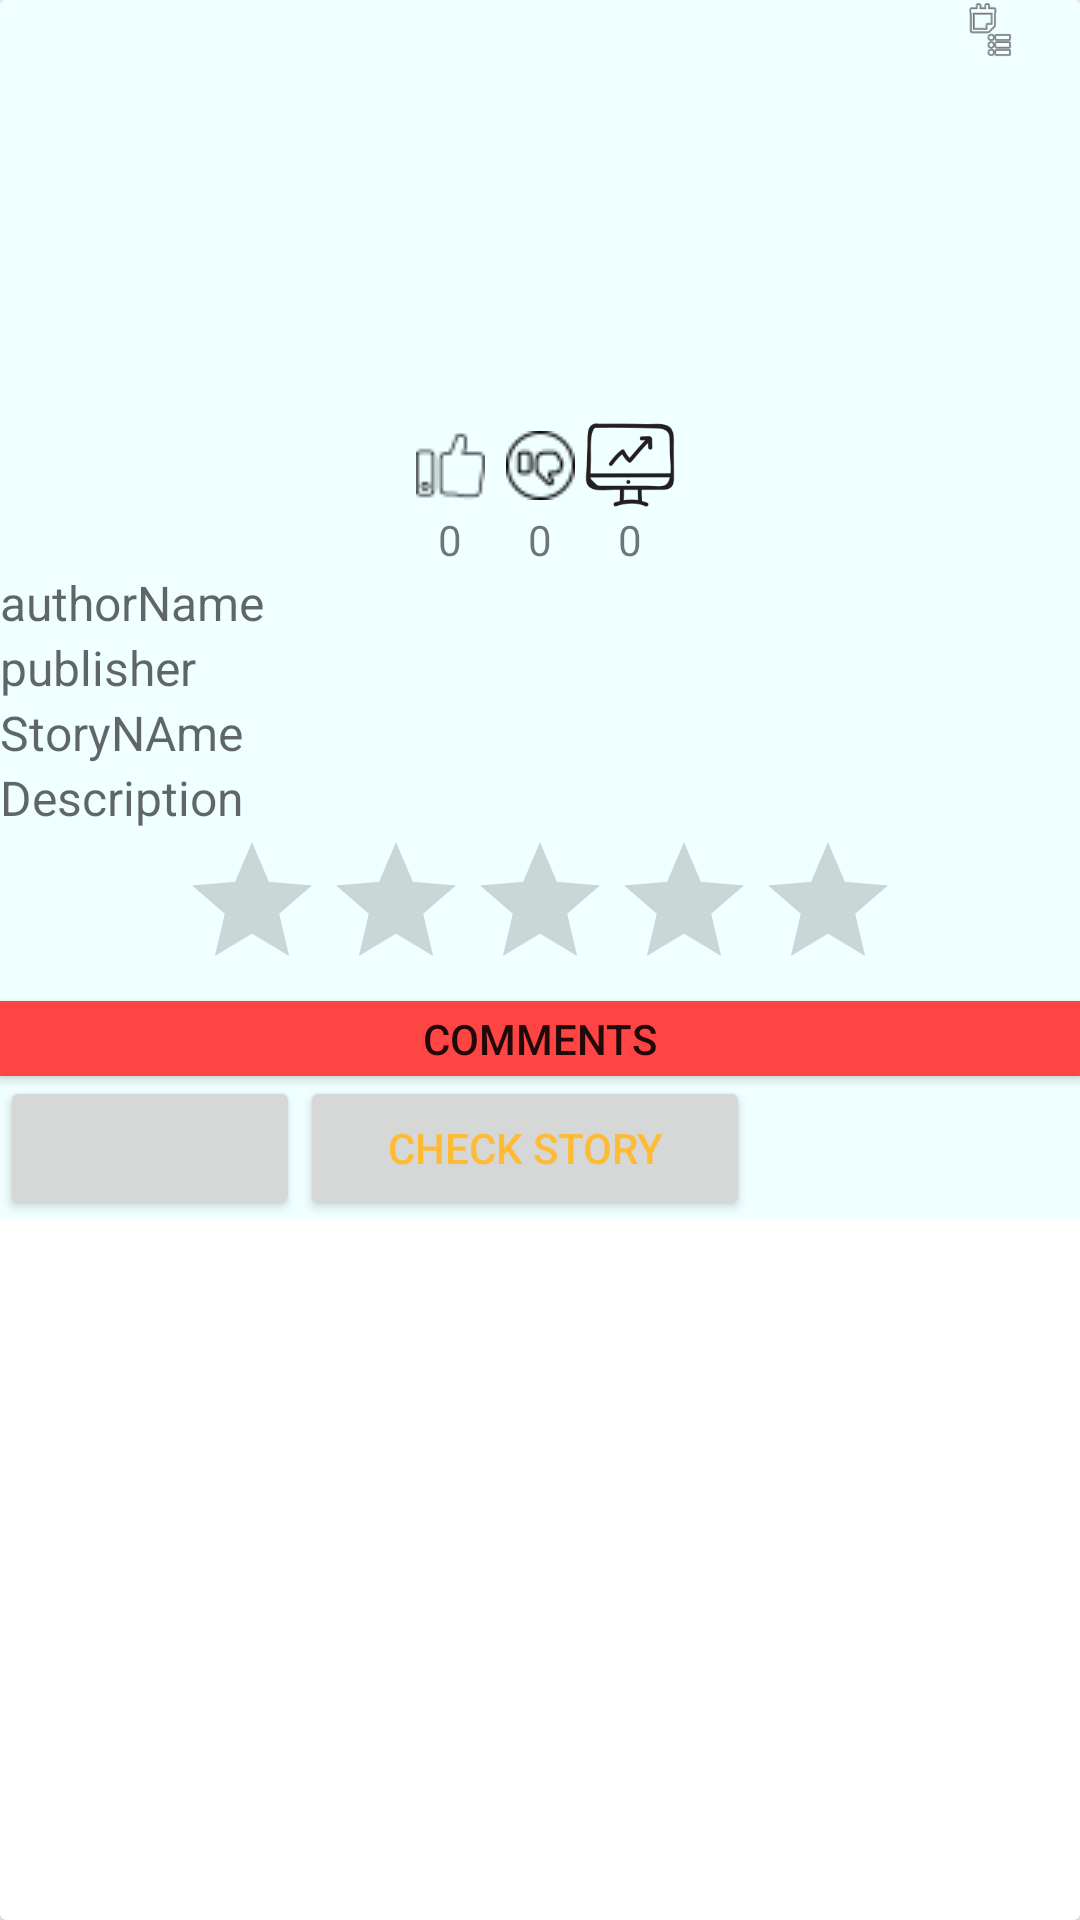

Icon click points for this 1080 × 1920 phone screenshot, format [x,y]:
agenda: [990,29]
like thumb: [450,465]
